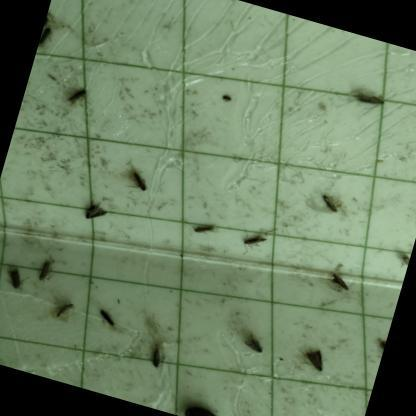prays_oleae: (294, 330, 340, 388), (50, 70, 93, 122), (344, 75, 390, 120), (235, 219, 277, 268), (140, 328, 178, 382), (183, 200, 222, 250), (120, 162, 156, 213), (322, 263, 360, 308), (313, 182, 349, 226), (237, 325, 273, 368), (78, 189, 110, 230), (0, 260, 30, 303), (51, 289, 80, 332), (95, 299, 124, 338), (32, 251, 58, 292), (368, 327, 389, 371), (36, 26, 60, 56), (393, 245, 413, 281), (44, 1, 59, 27)
